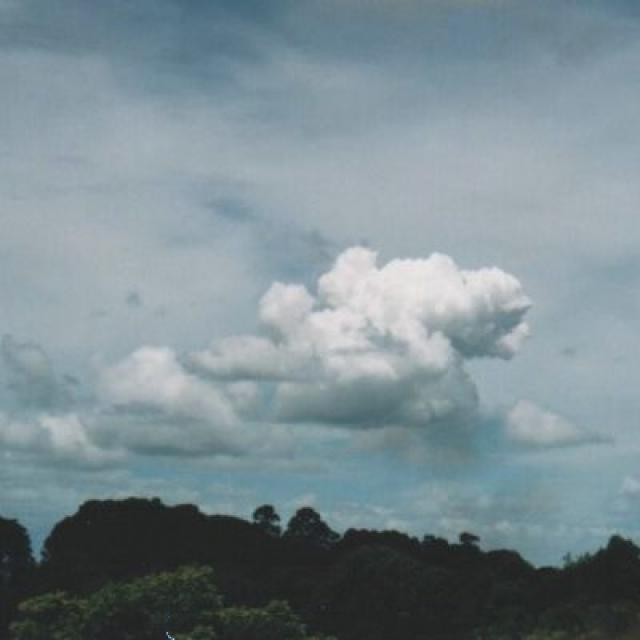Cs: (1, 238, 616, 483)
